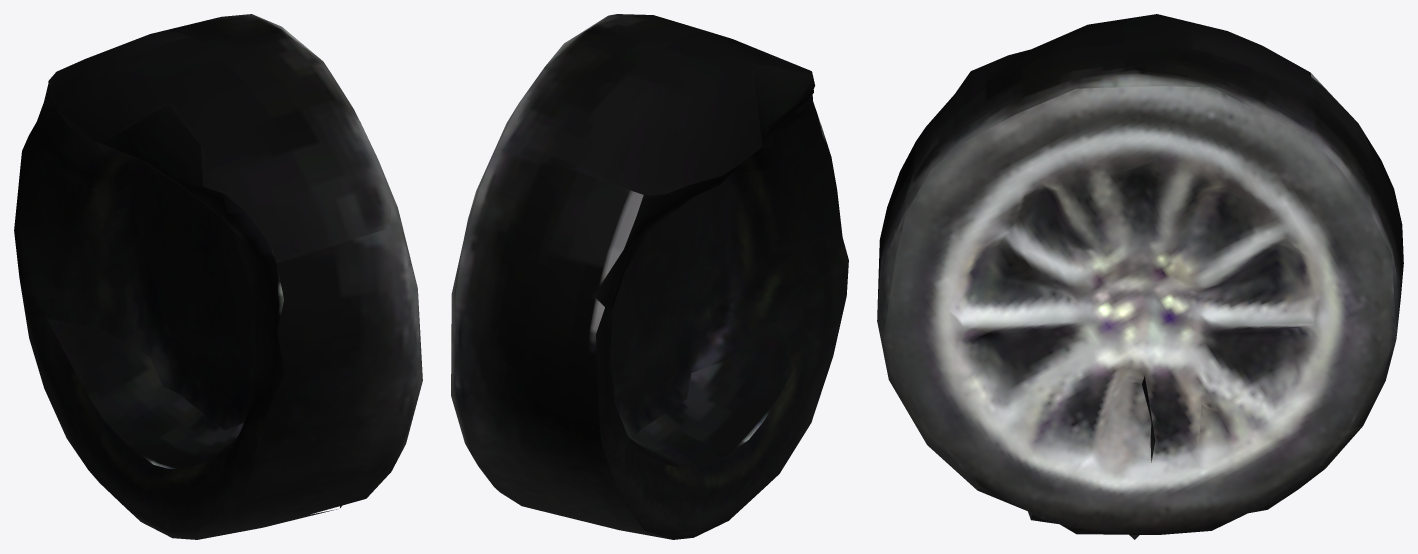
File: forte-new-wheel.glb
The picture shows the model from 3 angles, left to right: view 1: azimuth 30°, elevation 25°; view 2: azimuth 150°, elevation 25°; view 3: azimuth 270°, elevation 25°; orthographic projection.
Visible parts, largest first — view 1: root; view 2: root; view 3: root.
Boxes of the visible parts, x1,y1,x2,y2 form: root: [14, 14, 422, 539]; root: [451, 14, 848, 539]; root: [877, 14, 1403, 539].
Bounding box in the file's own units: 0.2912 × 0.6401 × 0.6537.
Materials: 1 (1 with a texture image).
